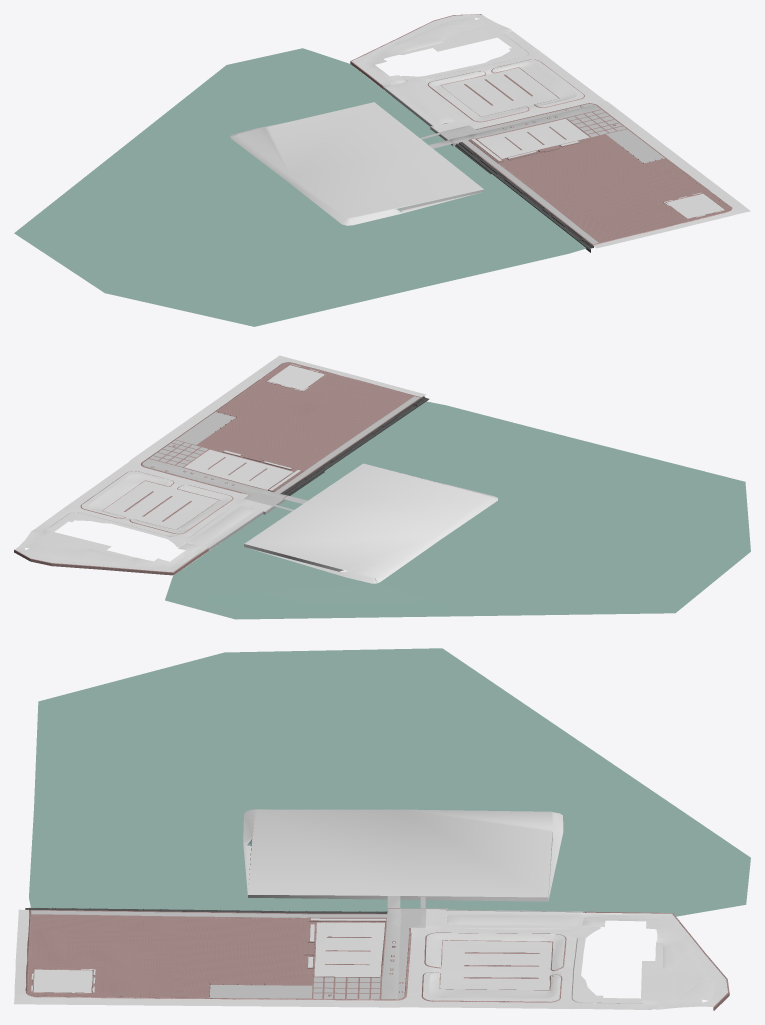
File: Area_3_4_streets.dae
The picture shows the model from 3 angles, top to bottom: view 1: azimuth 30°, elevation 25°; view 2: azimuth 150°, elevation 25°; view 3: azimuth 270°, elevation 25°; orthographic projection. The views are drawn at different scales.
Visible parts, largest first — view 1: water, lawn, cityhallTiling, innerCourtyards, sidewalk, woodold; view 2: water, lawn, cityhallTiling, innerCourtyards, sidewalk, woodold; view 3: water, lawn, innerCourtyards, cityhallTiling, sidewalk, woodold.
Part boxes in pixels (x1=…): water: x1=14, y1=48, x2=586, y2=326; lawn: x1=230, y1=14, x2=724, y2=225; cityhallTiling: x1=350, y1=14, x2=732, y2=245; innerCourtyards: x1=354, y1=14, x2=750, y2=248; sidewalk: x1=383, y1=34, x2=664, y2=244; woodold: x1=455, y1=142, x2=593, y2=252; water: x1=165, y1=401, x2=750, y2=619; lawn: x1=18, y1=364, x2=497, y2=583; cityhallTiling: x1=14, y1=362, x2=421, y2=575; innerCourtyards: x1=15, y1=355, x2=425, y2=571; sidewalk: x1=44, y1=396, x2=419, y2=550; woodold: x1=281, y1=396, x2=429, y2=495; water: x1=29, y1=648, x2=750, y2=916; lawn: x1=31, y1=809, x2=727, y2=1003; innerCourtyards: x1=14, y1=832, x2=720, y2=1009; cityhallTiling: x1=25, y1=908, x2=729, y2=1010; sidewalk: x1=31, y1=896, x2=645, y2=1003; woodold: x1=25, y1=907, x2=387, y2=913.
Size of the model in its own units: 505 by 431 by 6.61.
